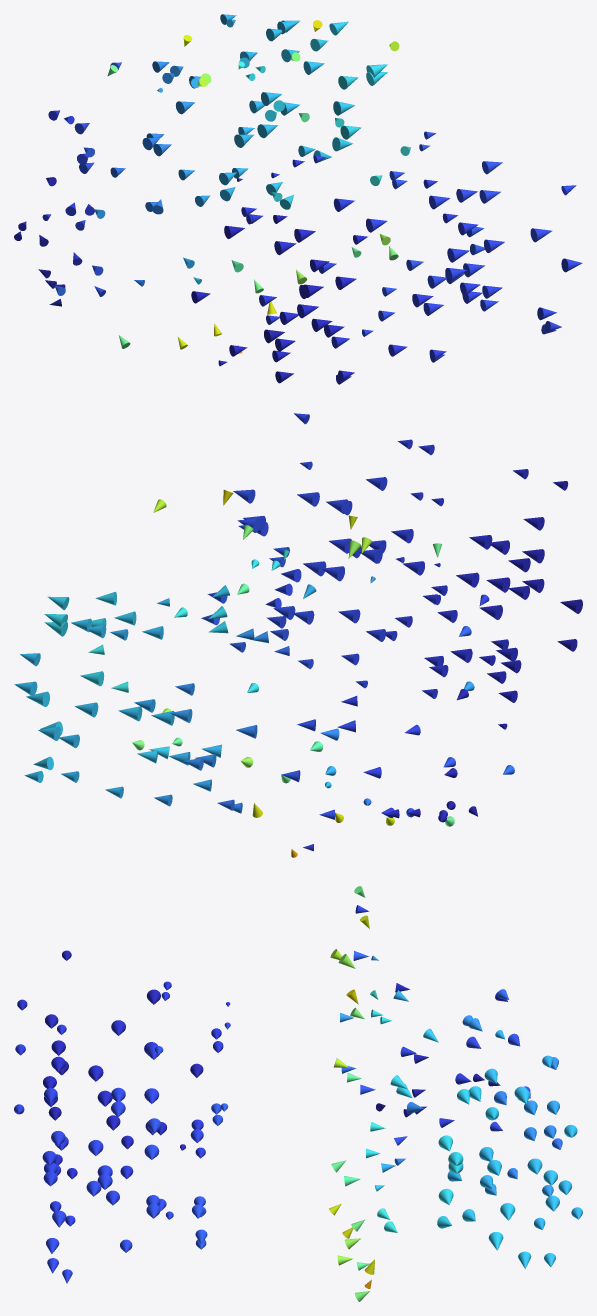
The model's file is LineasCorrienteN2-H2O_mh2-5.58_V-0.8.glb.
3 views of the same model, one above another, from view 1: azimuth 30°, elevation 25°; view 2: azimuth 150°, elevation 25°; view 3: azimuth 270°, elevation 25° (orthographic). The views are drawn at different scales.
Bounding box in the file's own units: 0.000986 × 0.000806 × 0.0012.
2 materials, 2 textured.
